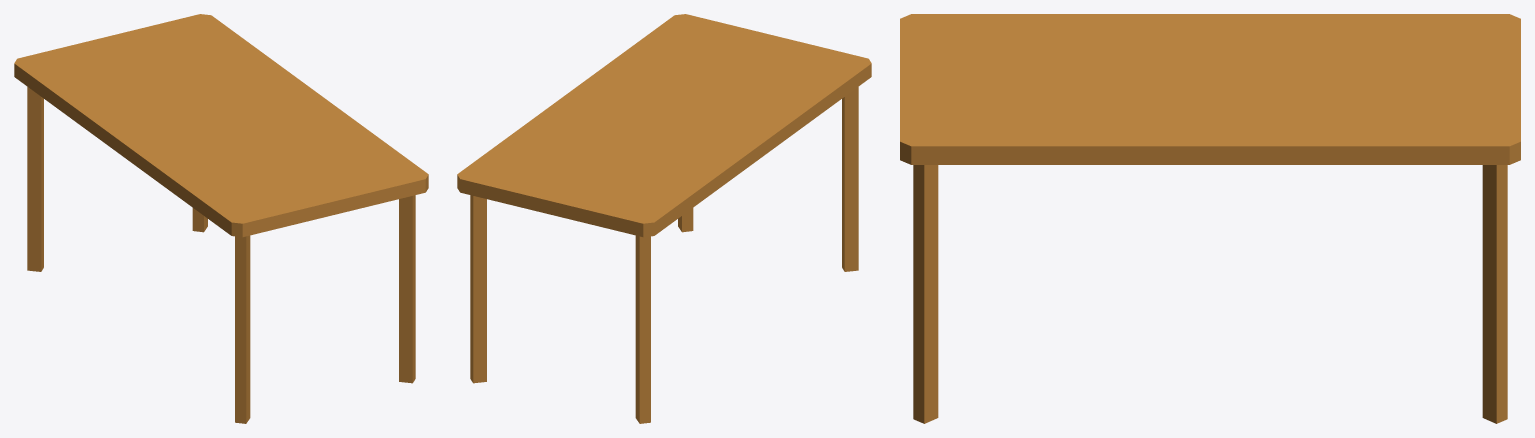
Rendered from Table_Wood_Full.fbx.
3 views of the same model, side by side, from view 1: azimuth 30°, elevation 25°; view 2: azimuth 150°, elevation 25°; view 3: azimuth 270°, elevation 25° (orthographic). The views are drawn at different scales.
Parts seen in each view (by area): view 1: Table_Wood_Full; view 2: Table_Wood_Full; view 3: Table_Wood_Full.
Boxes of the visible parts, left/top/right/bottom form: Table_Wood_Full: left=14, top=14, right=428, bottom=423; Table_Wood_Full: left=457, top=14, right=871, bottom=423; Table_Wood_Full: left=900, top=14, right=1520, bottom=423.
Size of the model in its own units: 953 by 950 by 1888.
